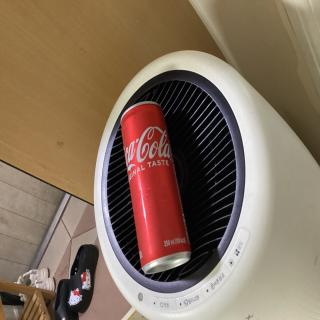cocacola: (119, 99, 198, 274)
